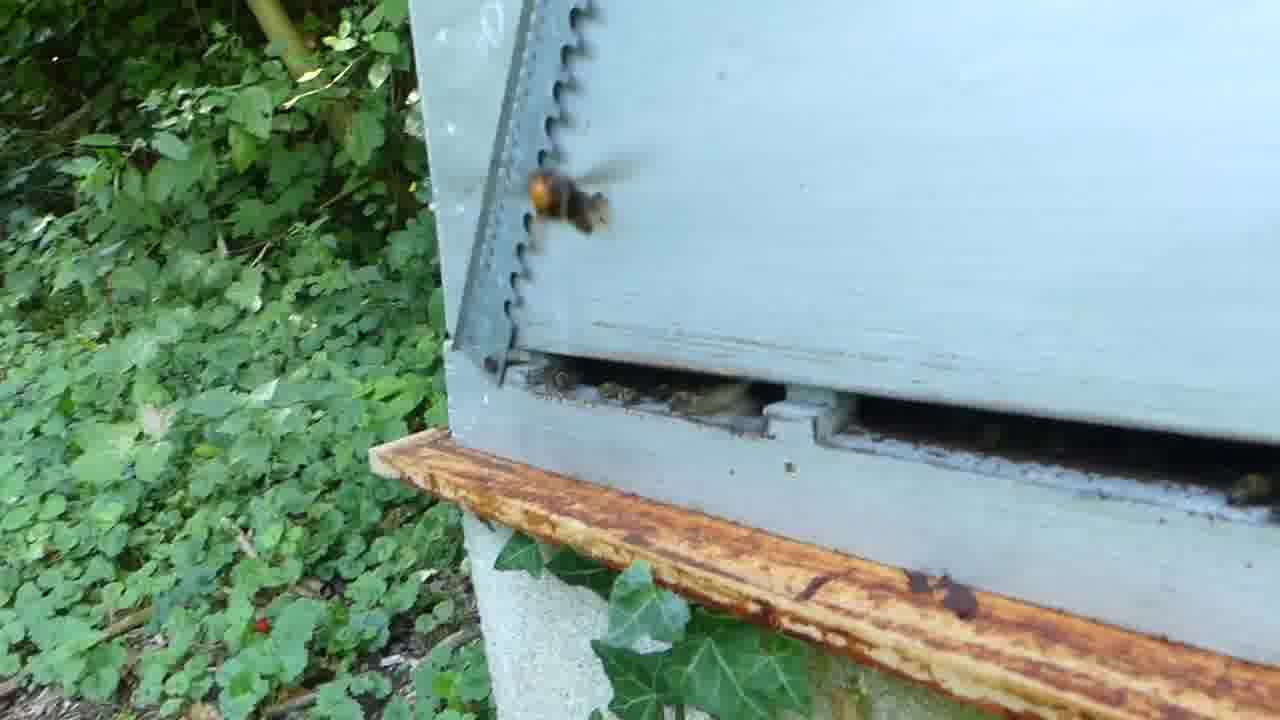hornet: (523, 166, 633, 252)
